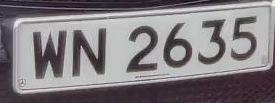2: (124, 18, 163, 77)
3: (194, 13, 228, 68)
5: (228, 9, 264, 68)
6: (160, 17, 196, 69)
N: (70, 23, 112, 85)
W: (26, 24, 72, 86)
